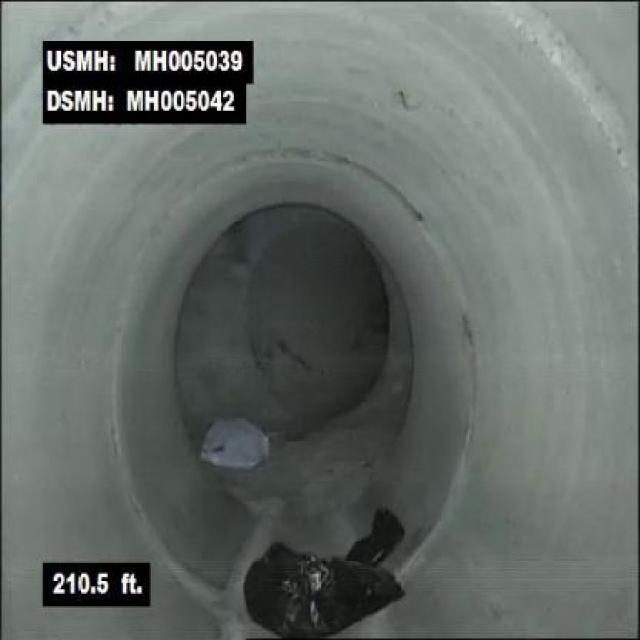Joint offset: (508, 5, 626, 146)
